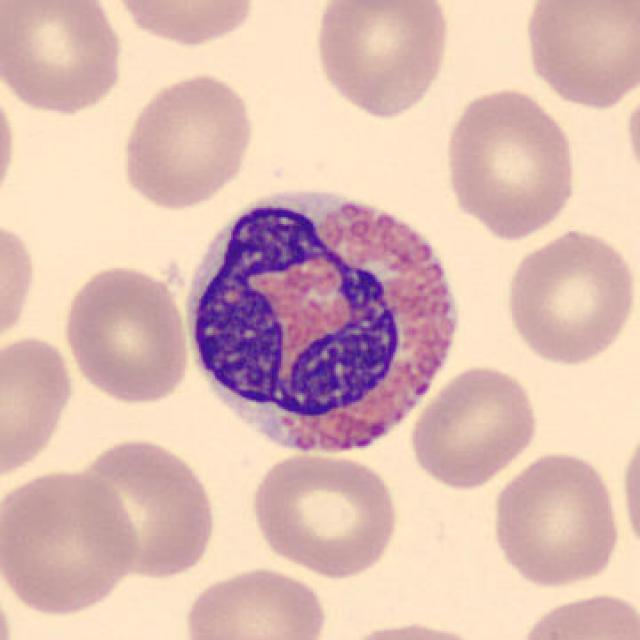Eosinophil: (178, 168, 474, 472)
RBC: (64, 432, 220, 582), (439, 83, 581, 241), (2, 465, 144, 619), (115, 68, 258, 212), (247, 450, 404, 580), (485, 448, 624, 590), (499, 225, 636, 368), (58, 261, 194, 405), (310, 0, 454, 120), (407, 362, 542, 490), (0, 0, 128, 118), (519, 0, 638, 111), (0, 330, 78, 485), (180, 562, 330, 640), (106, 0, 259, 49), (512, 587, 638, 640), (0, 211, 39, 351), (332, 617, 492, 640), (617, 416, 640, 563), (0, 75, 21, 213), (622, 76, 640, 196)
